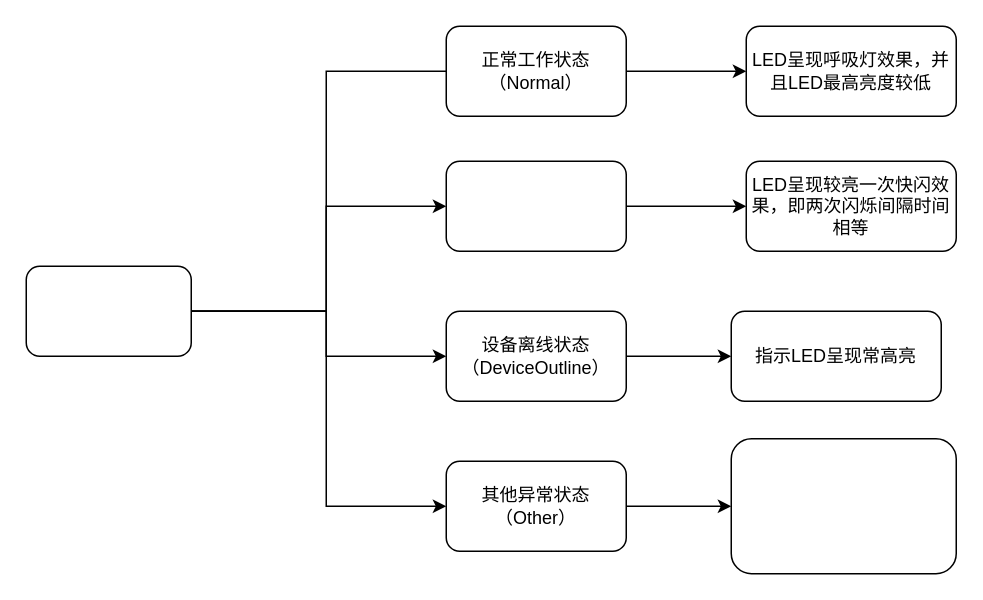
Some shapes in this 983 by 600 pixel diagram are drawn without their labels. The shapes that lost their labels are listed below. From the top down, each one's box as (x1, y1, x2, y2) in pixels, then its label:
(445, 160, 626, 251): CAN离线状态（CanOutline）
(25, 265, 191, 356): LED的四种指示状态
(730, 437, 956, 574): 指示LED呈现较亮二次快闪效果，即两次为一个周期，一个周期内闪烁间隔较短，两个周期间隔相对较大
